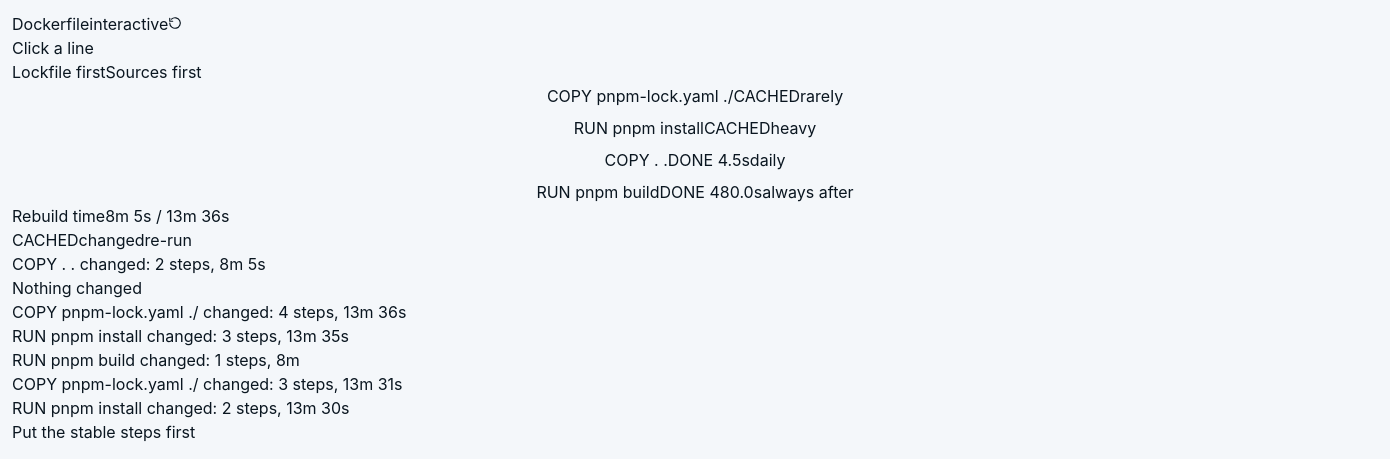
Scenario: LayerCache › pressing a step re-runs it and everything below
The width and height of the screenshot is (1390, 459).
Click the 5th button at {"x": 695, "y": 128}, box [12, 116, 1378, 140]
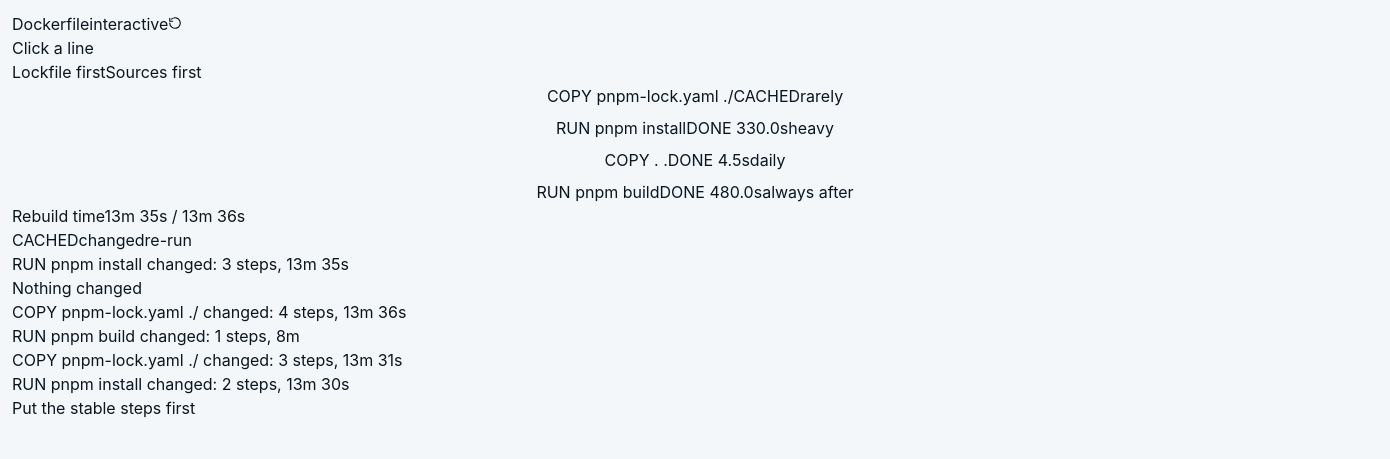
Expected: the text "RUN pnpm install changed: 3 steps, 13m 35s" is shown, [12, 254, 349, 274]
